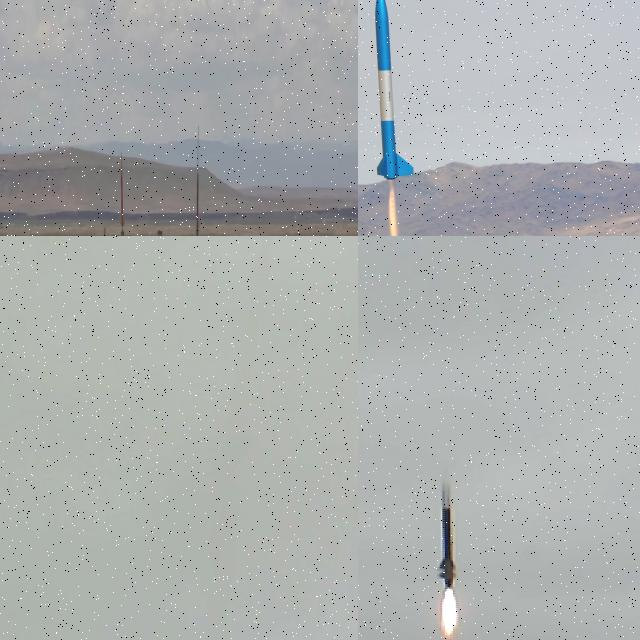Rocket: (373, 0, 414, 181), (436, 473, 457, 589), (120, 151, 124, 227), (196, 172, 199, 236)
